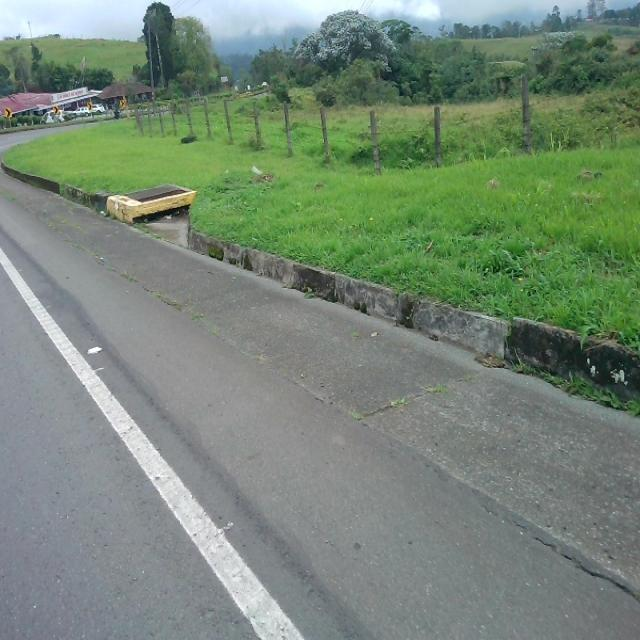DITCH: (1, 154, 639, 637)
